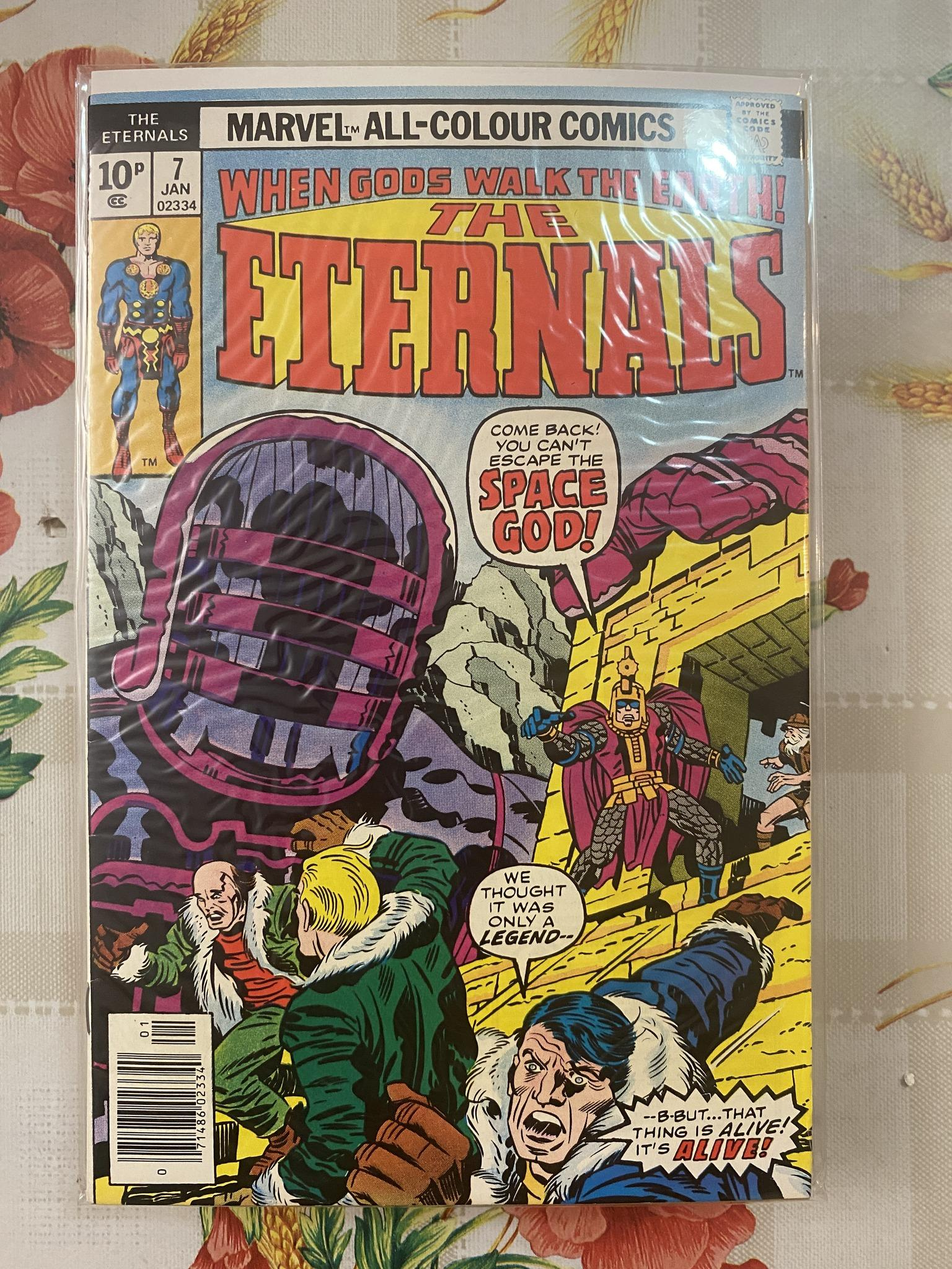comic: (79, 64, 812, 1206)
